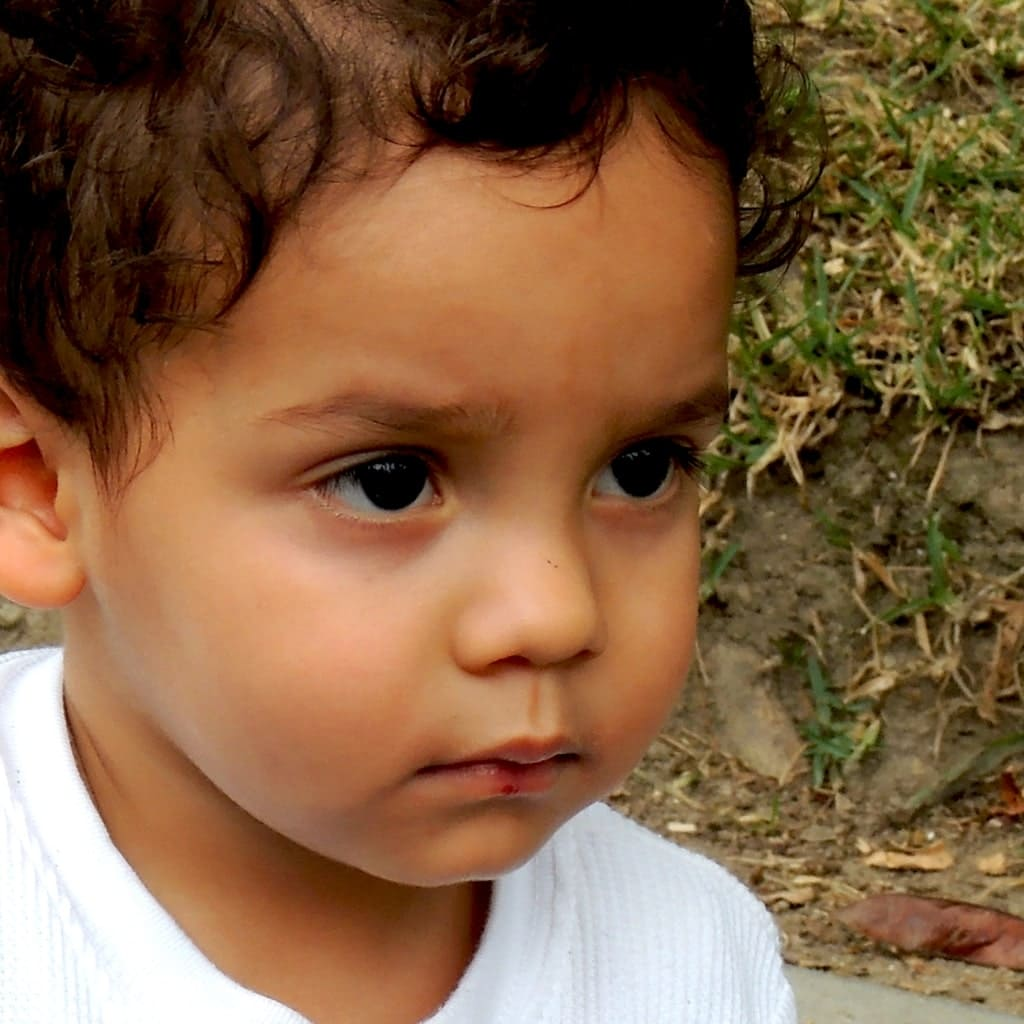without_mask: (108, 63, 708, 868)
